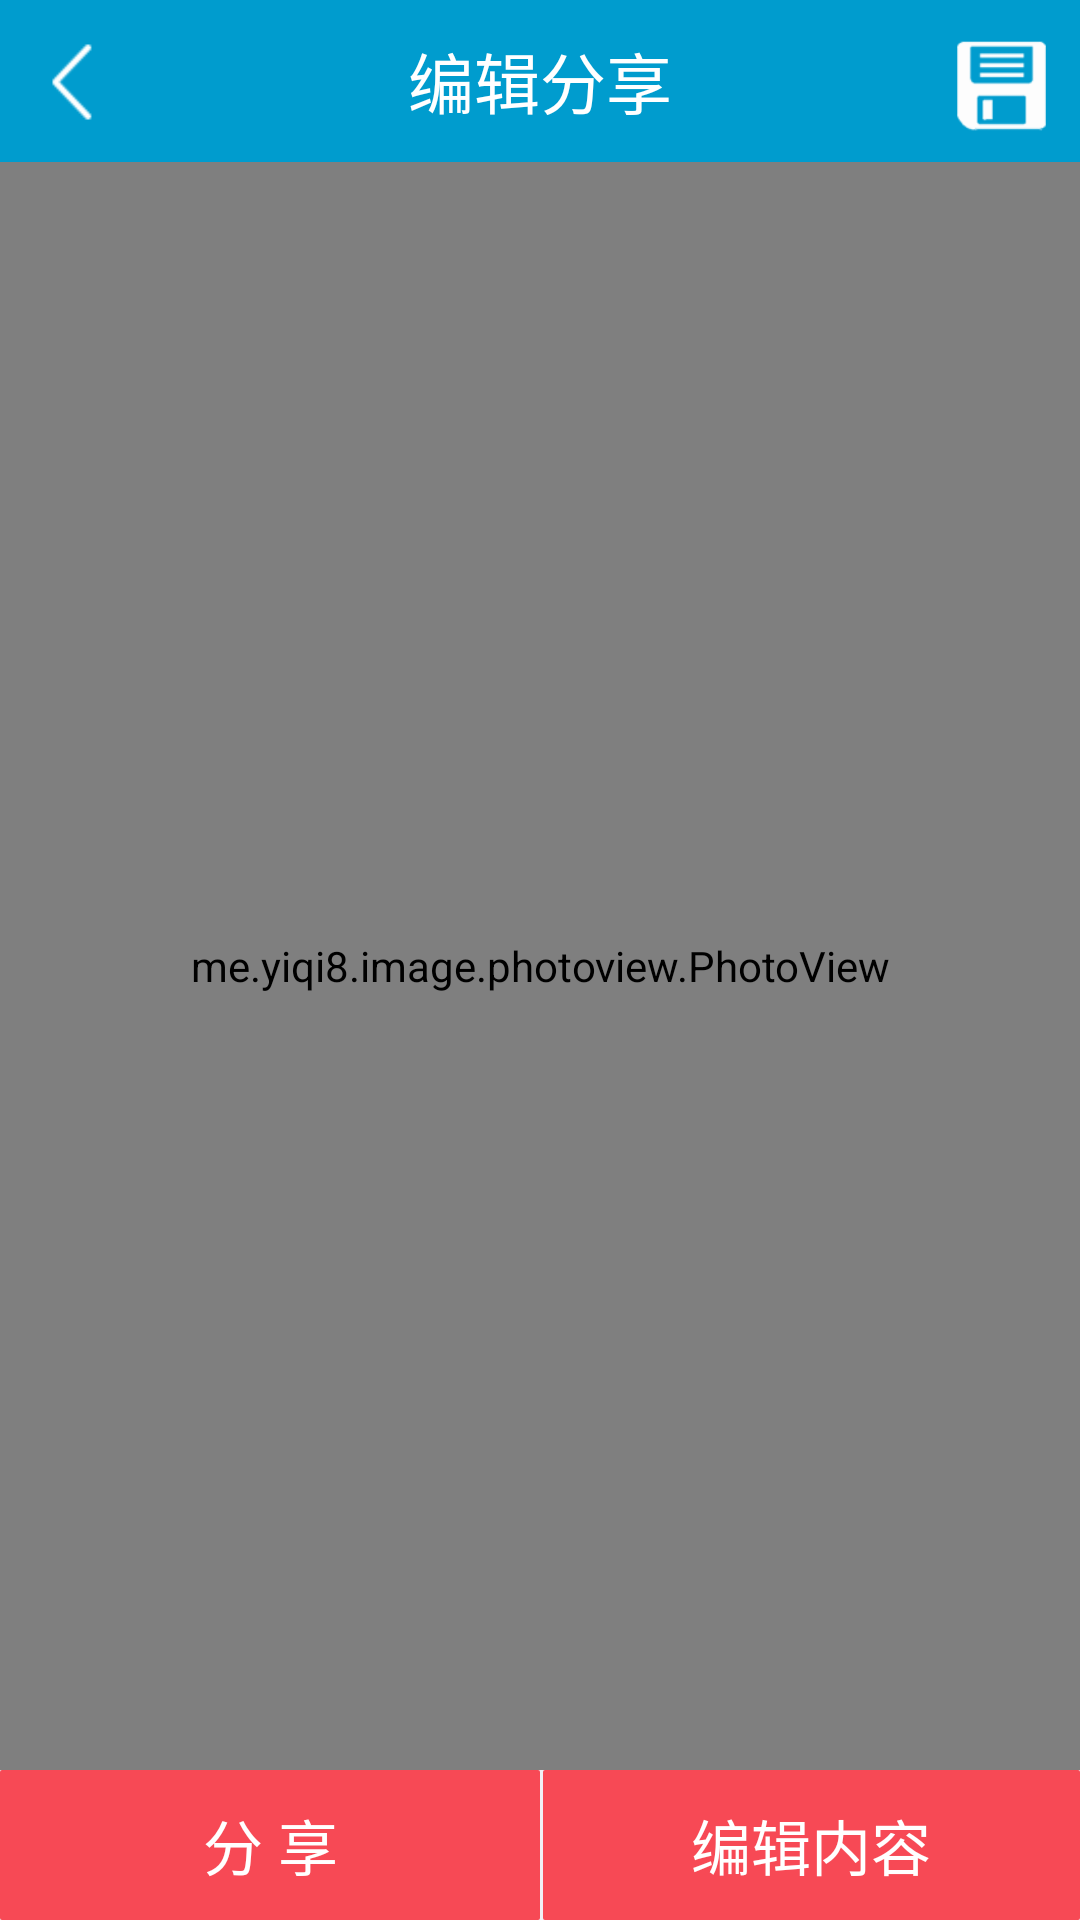

Screen size 1080×1920. Icon name, then its box in pixels as (x1, y1, x2, y2):
file save: (957, 41, 1046, 131)
